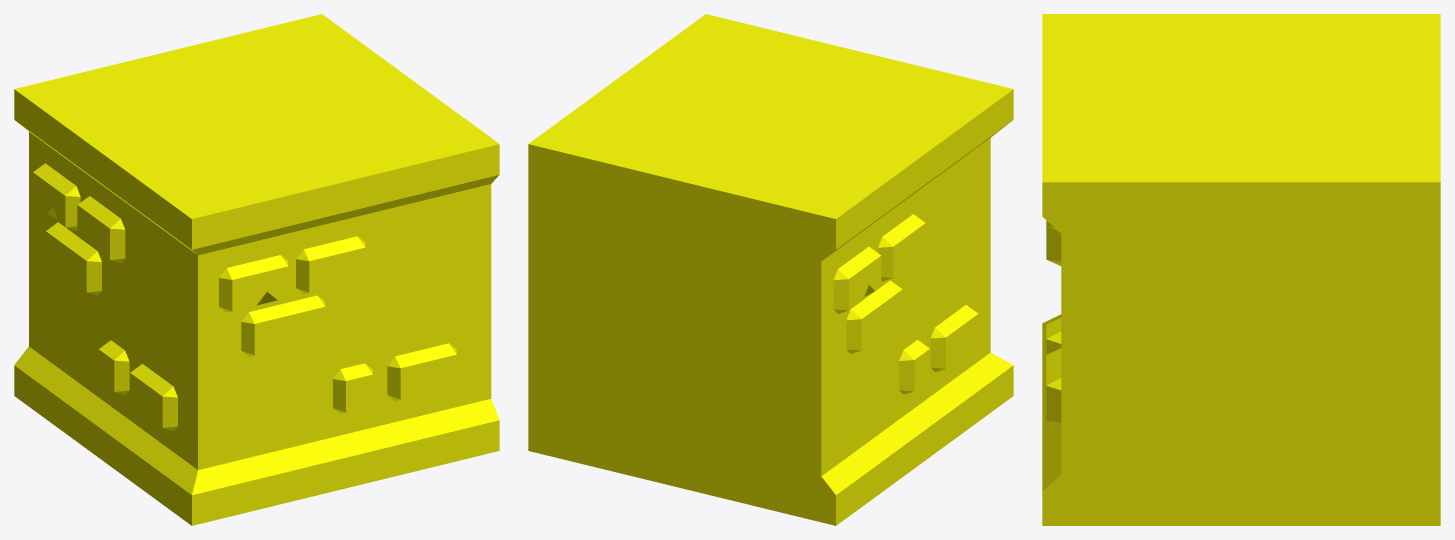
File: kaykit-floor-foundation-corner.glb
3 renders of one model, left to right at view 1: azimuth 30°, elevation 25°; view 2: azimuth 150°, elevation 25°; view 3: azimuth 270°, elevation 25°, orthographic. The views are drawn at different scales.
Visible parts, largest first — view 1: floor_foundation_corner; view 2: floor_foundation_corner; view 3: floor_foundation_corner.
Part boxes in pixels (<box>): floor_foundation_corner: <box>14,14,499,525</box>; floor_foundation_corner: <box>528,14,1013,525</box>; floor_foundation_corner: <box>1042,14,1440,525</box>.
Bounding box in the file's own units: 2.1 × 2 × 2.1.
